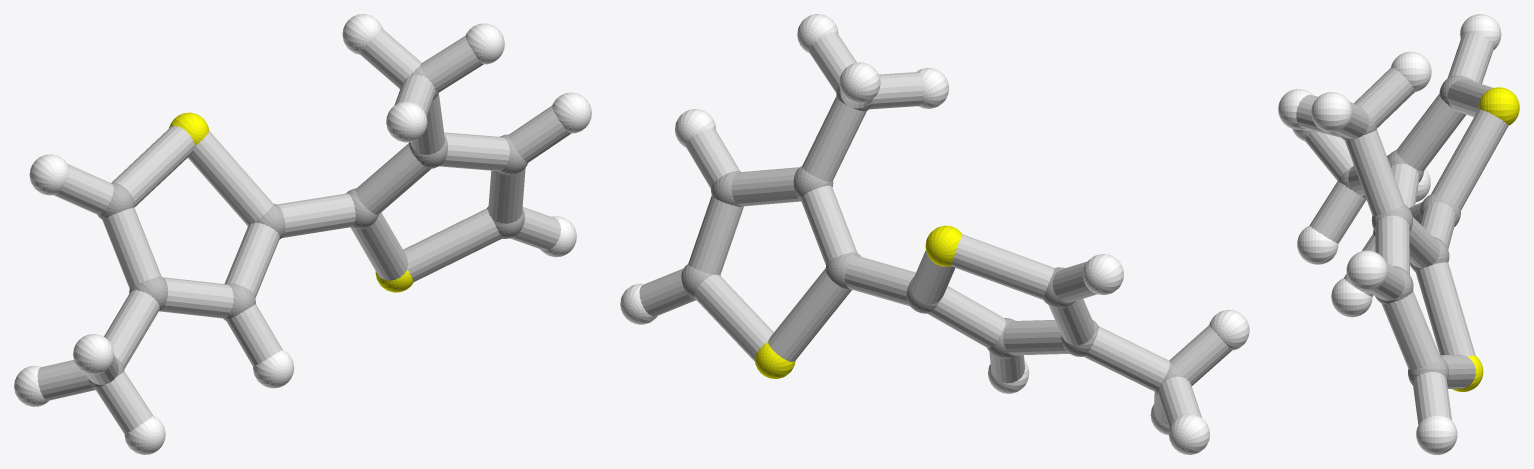
File: color.glb
3 views of the same model, side by side, from view 1: azimuth 30°, elevation 25°; view 2: azimuth 150°, elevation 25°; view 3: azimuth 270°, elevation 25° (orthographic).
Parts seen in each view (by area): view 1: grp7965, grp3621, grp1, grp7241; view 2: grp7965, grp3621, grp1, grp7241; view 3: grp7965, grp3621, grp1, grp7241.
Part boxes in pixels (<box>): grp7965: <box>37,29,570,434</box>; grp3621: <box>14,14,591,454</box>; grp1: <box>88,65,527,389</box>; grp7241: <box>169,112,413,292</box>; grp7965: <box>639,32,1231,428</box>; grp3621: <box>620,14,1249,454</box>; grp1: <box>681,86,1183,396</box>; grp7241: <box>754,225,962,378</box>; grp7965: <box>1296,33,1508,424</box>; grp3621: <box>1278,14,1501,454</box>; grp1: <box>1338,75,1474,385</box>; grp7241: <box>1452,87,1519,391</box>.
Bounding box in the file's own units: 9.58 × 5.43 × 3.51.
